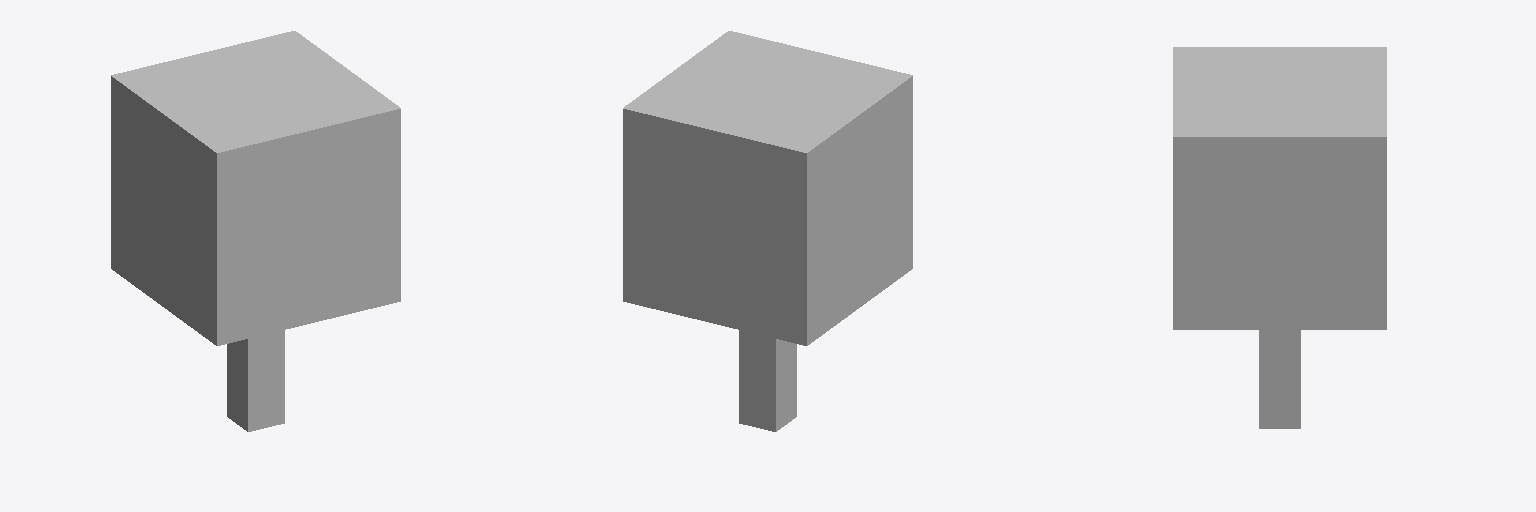
Rendered from tree.obj.
The picture shows the model from 3 angles: view 1: azimuth 30°, elevation 25°; view 2: azimuth 150°, elevation 25°; view 3: azimuth 270°, elevation 25°; orthographic projection.
Visible parts, largest first — view 1: object 1; view 2: object 1; view 3: object 1.
Part boxes in pixels (x1,y1,x2,y2): object 1: (111, 31, 400, 431); object 1: (623, 31, 912, 431); object 1: (1173, 47, 1386, 428).
Size of the model in its own units: 1 by 1.7 by 1.